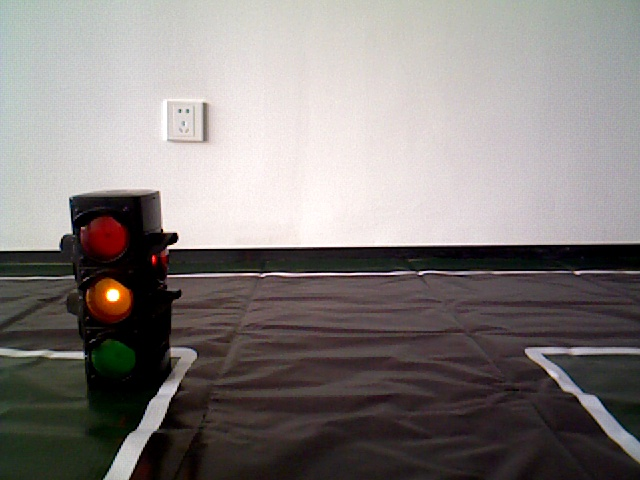yellow: (67, 193, 169, 369)
